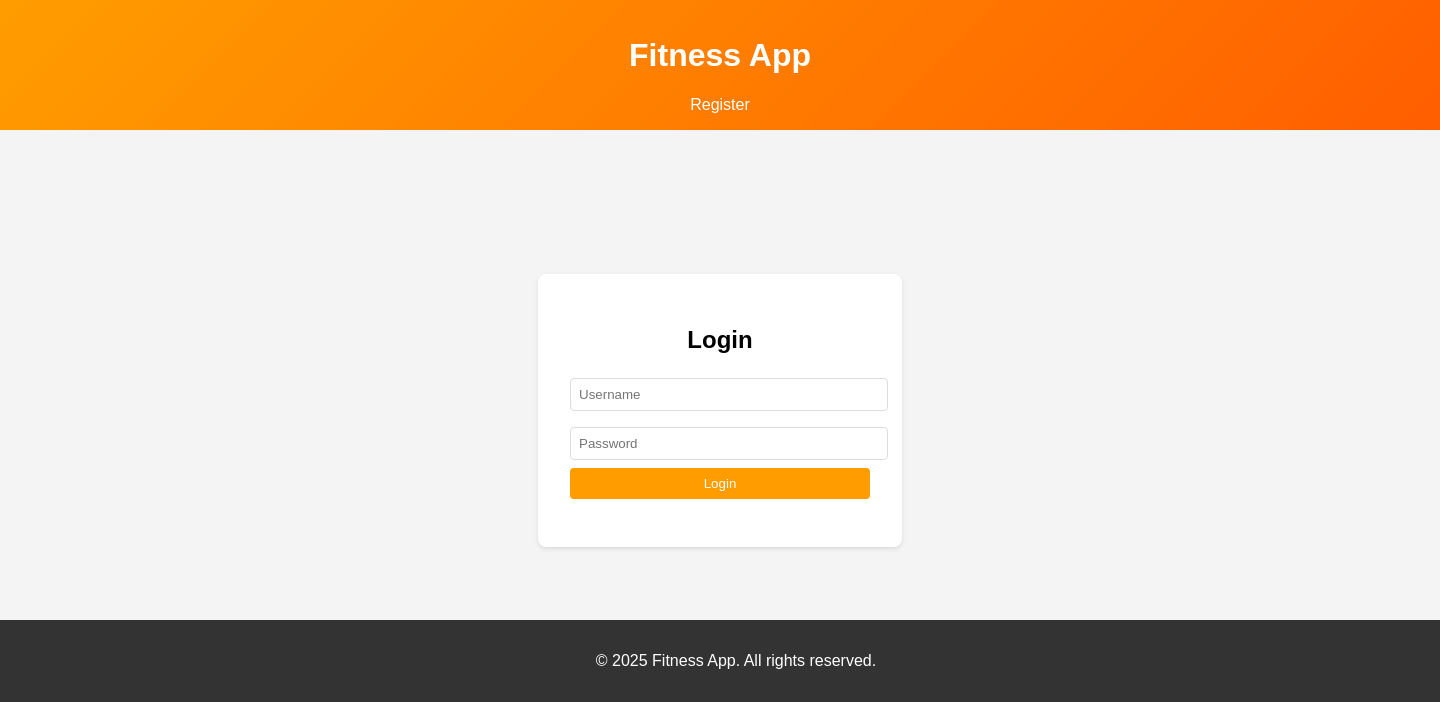
Test: Tests what happens when u enter a wrong username
In the field with id "loginUsername": (729, 395) [570,378,888,411], type "aliboeboe"
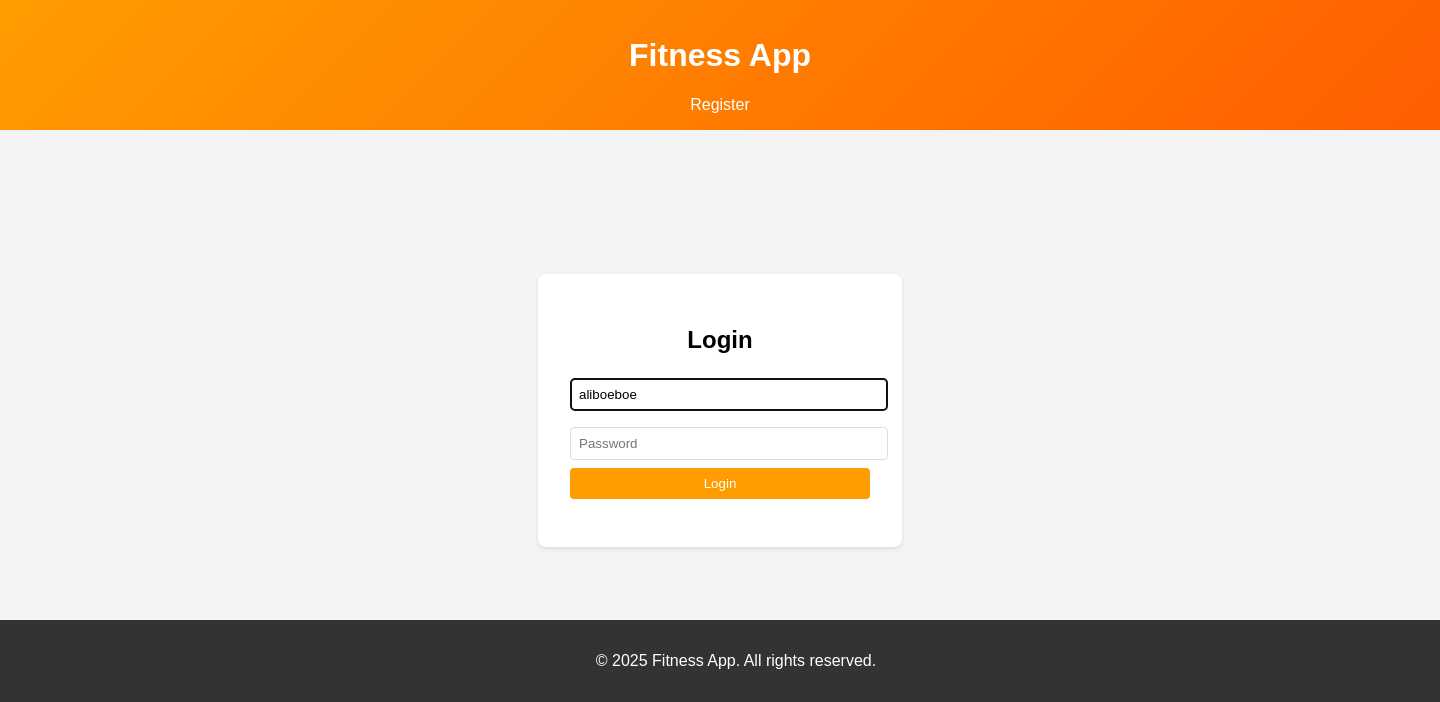
Click the form with id "loginForm": (720, 435) [570,370,870,499]
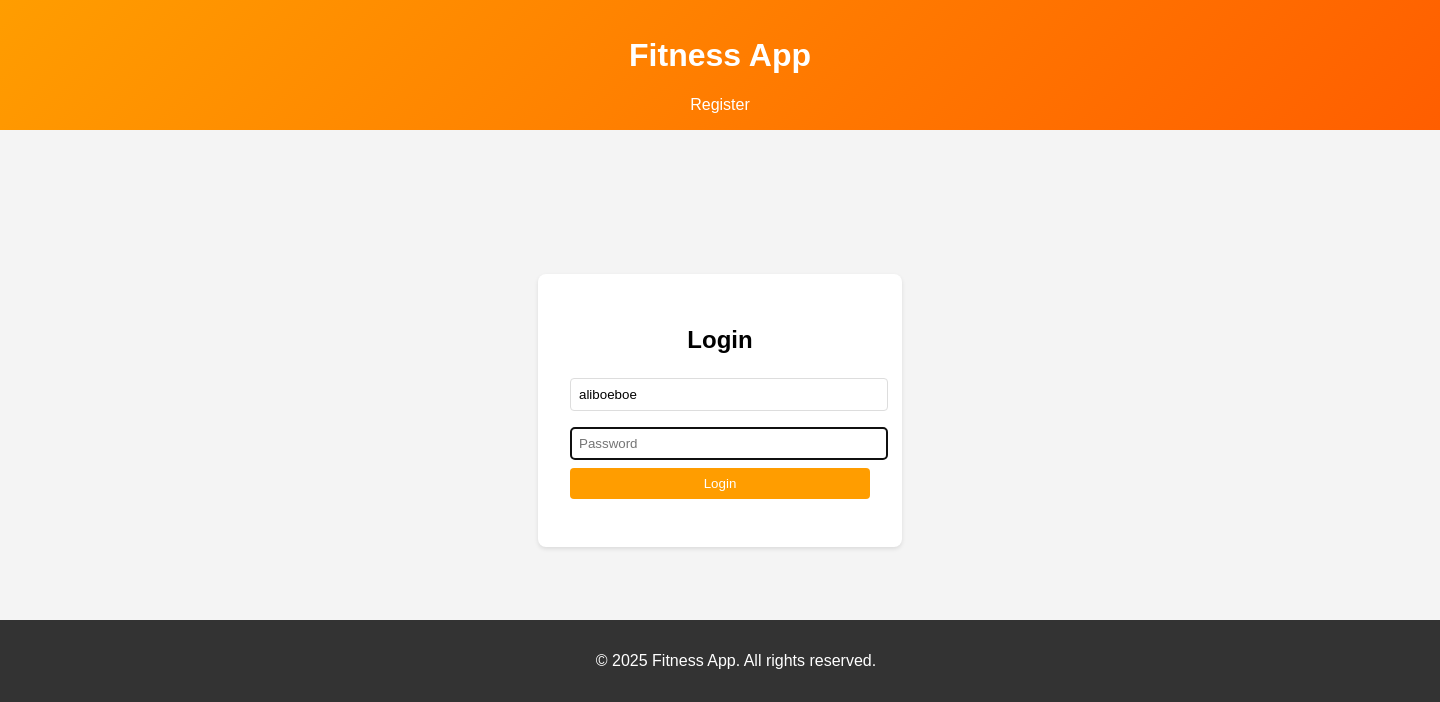
In the password field with id "loginPassword": (729, 444) [570,427,888,460], type "123"
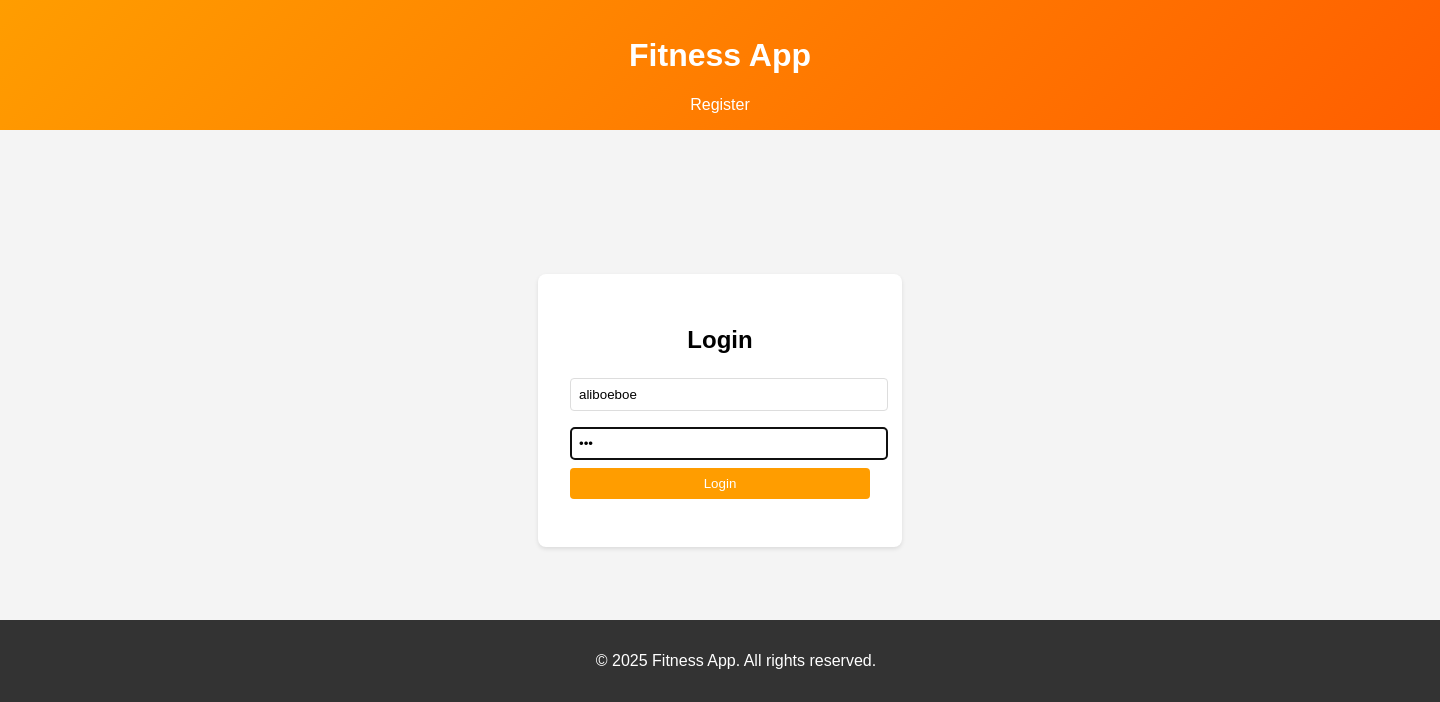
Click the button "Login": (720, 484) [570,468,870,499]
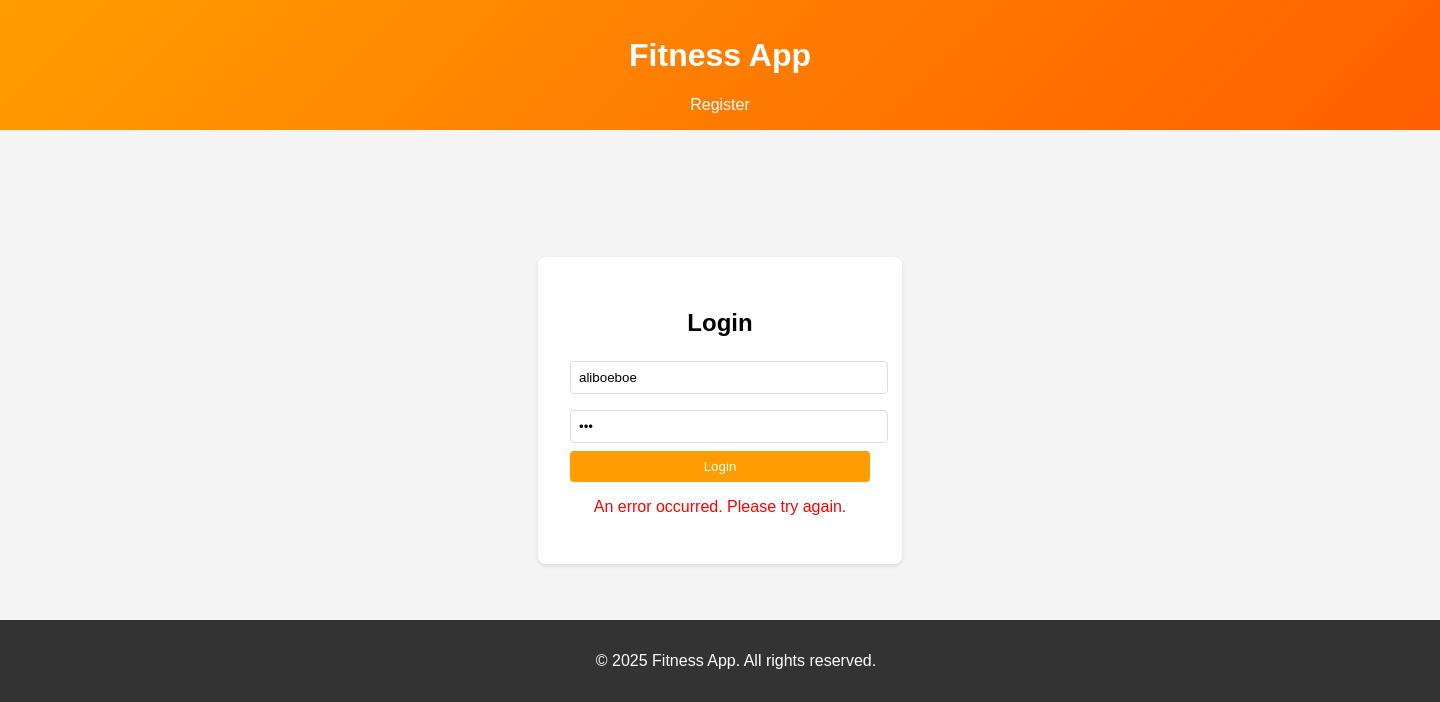
Expected: the text "An error occurred. Please try again." is shown, [594,498,846,515]
